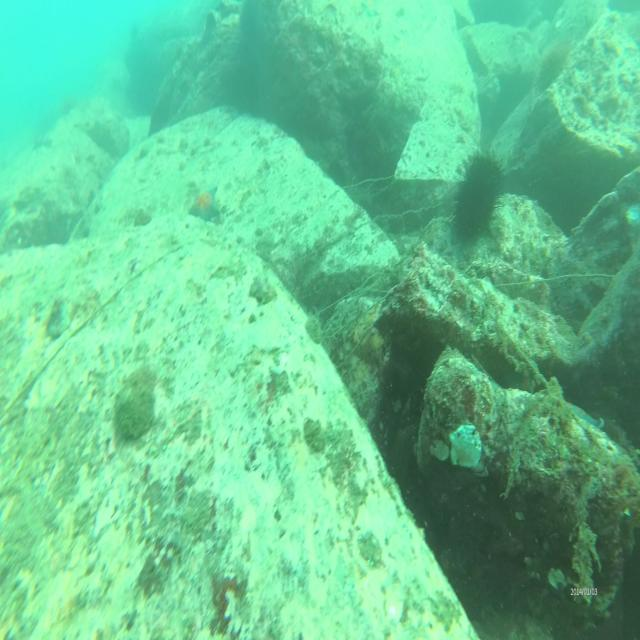echinus: (452, 150, 506, 240)
starfish: (189, 183, 221, 229)
